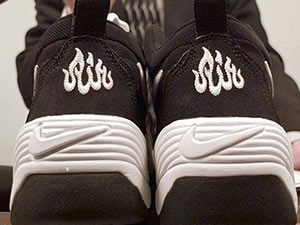nike: (179, 123, 266, 161), (29, 121, 111, 157)
